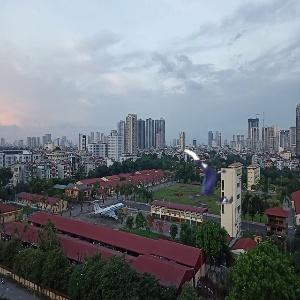drone: (173, 148, 233, 208)
